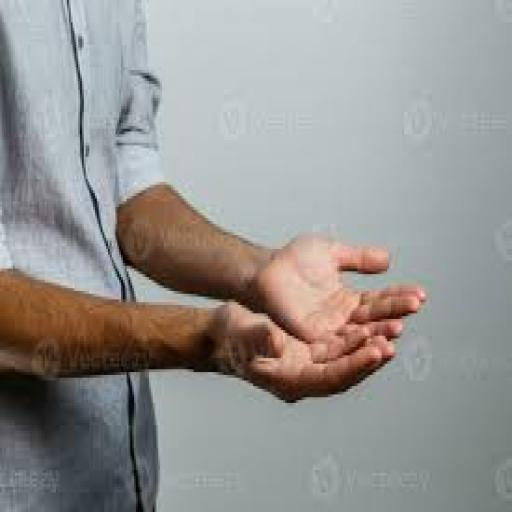Open_Palm: (222, 192, 440, 454)
